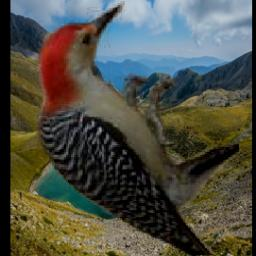Woodpecker: (29, 2, 238, 256)
